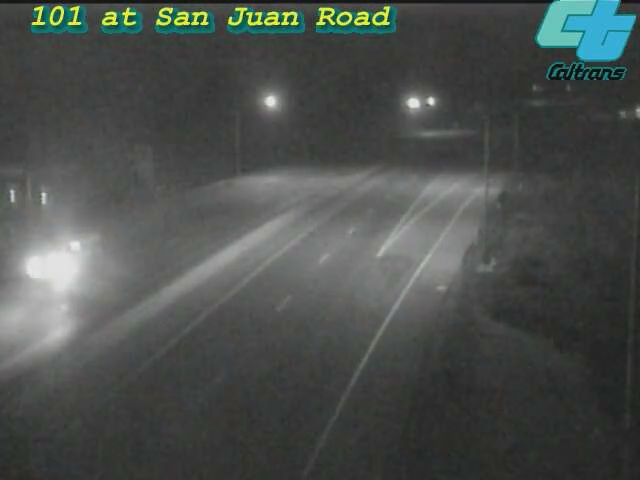vehicle: (18, 227, 98, 307)
